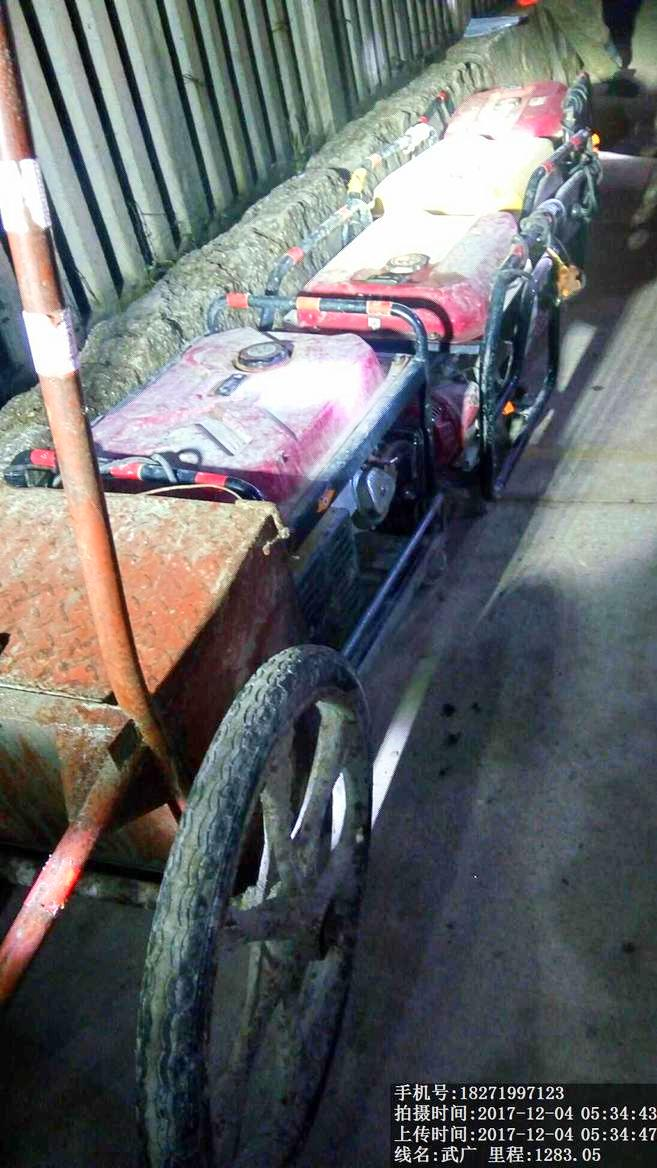DJ: (60, 296, 418, 493), (274, 200, 551, 448)
